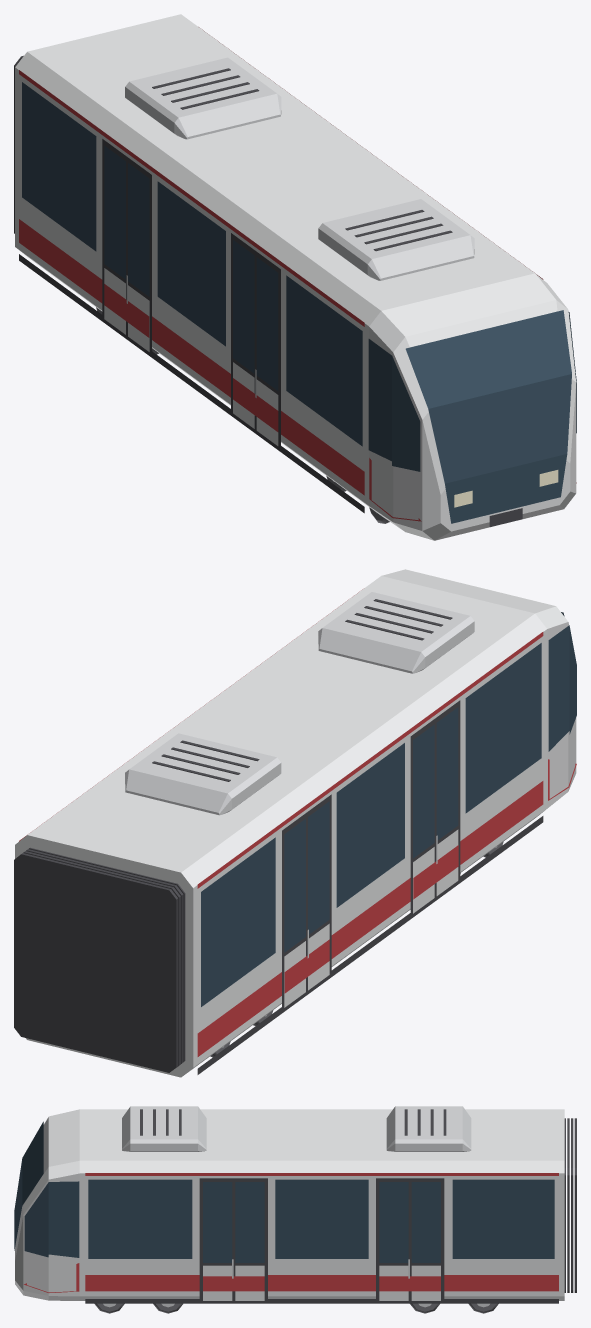
The picture shows the model from 3 angles, top to bottom: view 1: azimuth 30°, elevation 25°; view 2: azimuth 150°, elevation 25°; view 3: azimuth 270°, elevation 25°; orthographic projection. The views are drawn at different scales.
Parts seen in each view (by area): view 1: 14_0; view 2: 14_0; view 3: 14_0.
Part boxes in pixels (x1,y1,x2,y2): 14_0: (14,14,576,540); 14_0: (14,569,576,1077); 14_0: (14,1106,576,1313).
Bounding box in the file's own units: 2.54 × 3.37 × 10.
